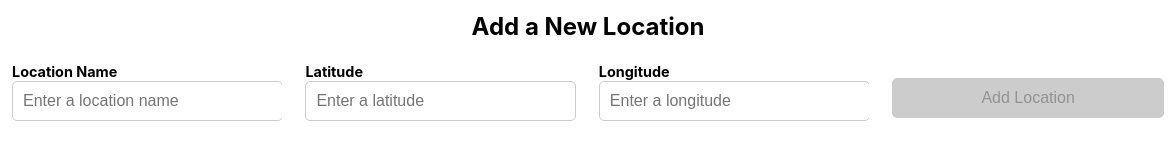
it: submit is disabled when longitude is invalid
Expected: the button "Add Location" is disabled, [892,78,1164,118]
Type "New York" into the field labelled "Location Name" at (147, 101), box [12,81,283,121]
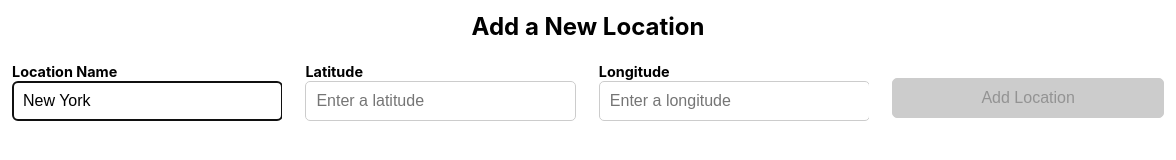
Type "40.7128" into the number field labelled "Latitude" at (441, 101), box [305,81,576,121]
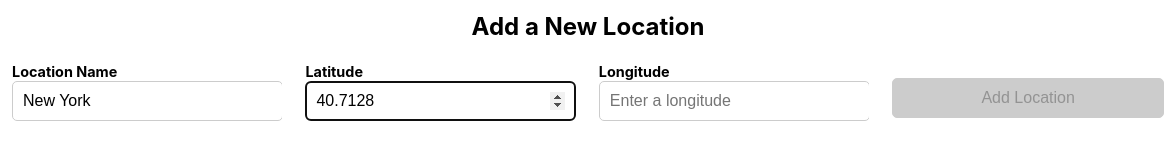
Type "-360" into the number field labelled "Longitude" at (734, 101), box [599,81,870,121]
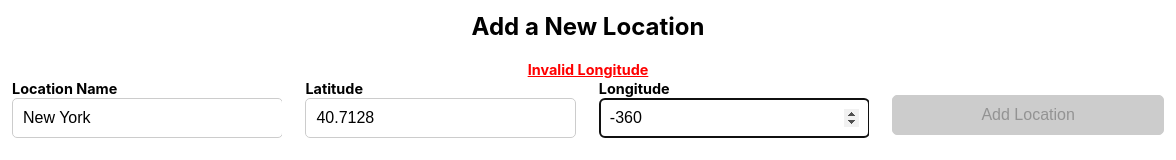
Expected: the button "Add Location" is disabled, [892,95,1164,135]
Now the text "invalid longitude" is shown, box [528,61,648,78]
